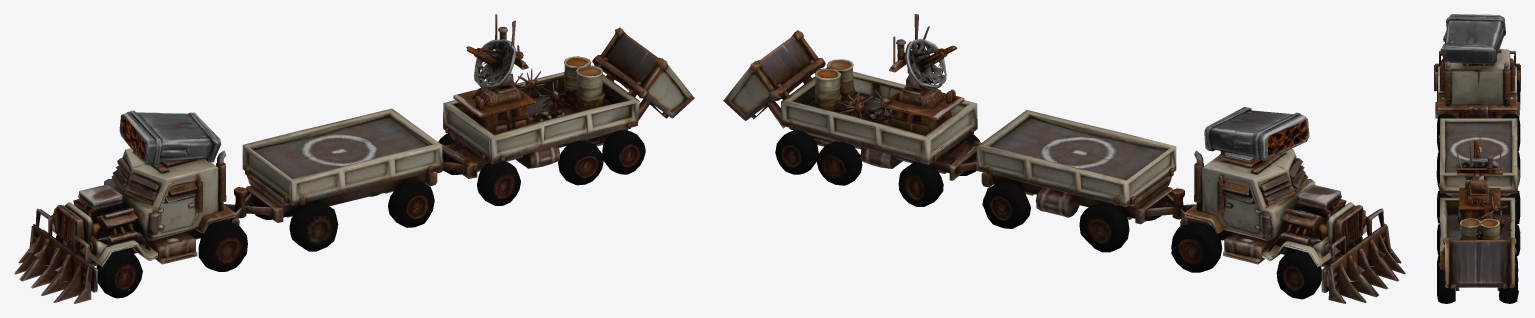
File: big_rig.glb
3 renders of one model, left to right at view 1: azimuth 30°, elevation 25°; view 2: azimuth 150°, elevation 25°; view 3: azimuth 270°, elevation 25°, orthographic. The views are drawn at different scales.
Visible parts, largest first — view 1: geometry_0; view 2: geometry_0; view 3: geometry_0.
Part boxes in pixels (x1=…): geometry_0: x1=14, y1=14, x2=694, y2=303; geometry_0: x1=723, y1=14, x2=1405, y2=303; geometry_0: x1=1434, y1=14, x2=1520, y2=303.
Bounding box in the file's own units: 0.9502 × 0.2324 × 0.145.
1 material, 1 textured.
